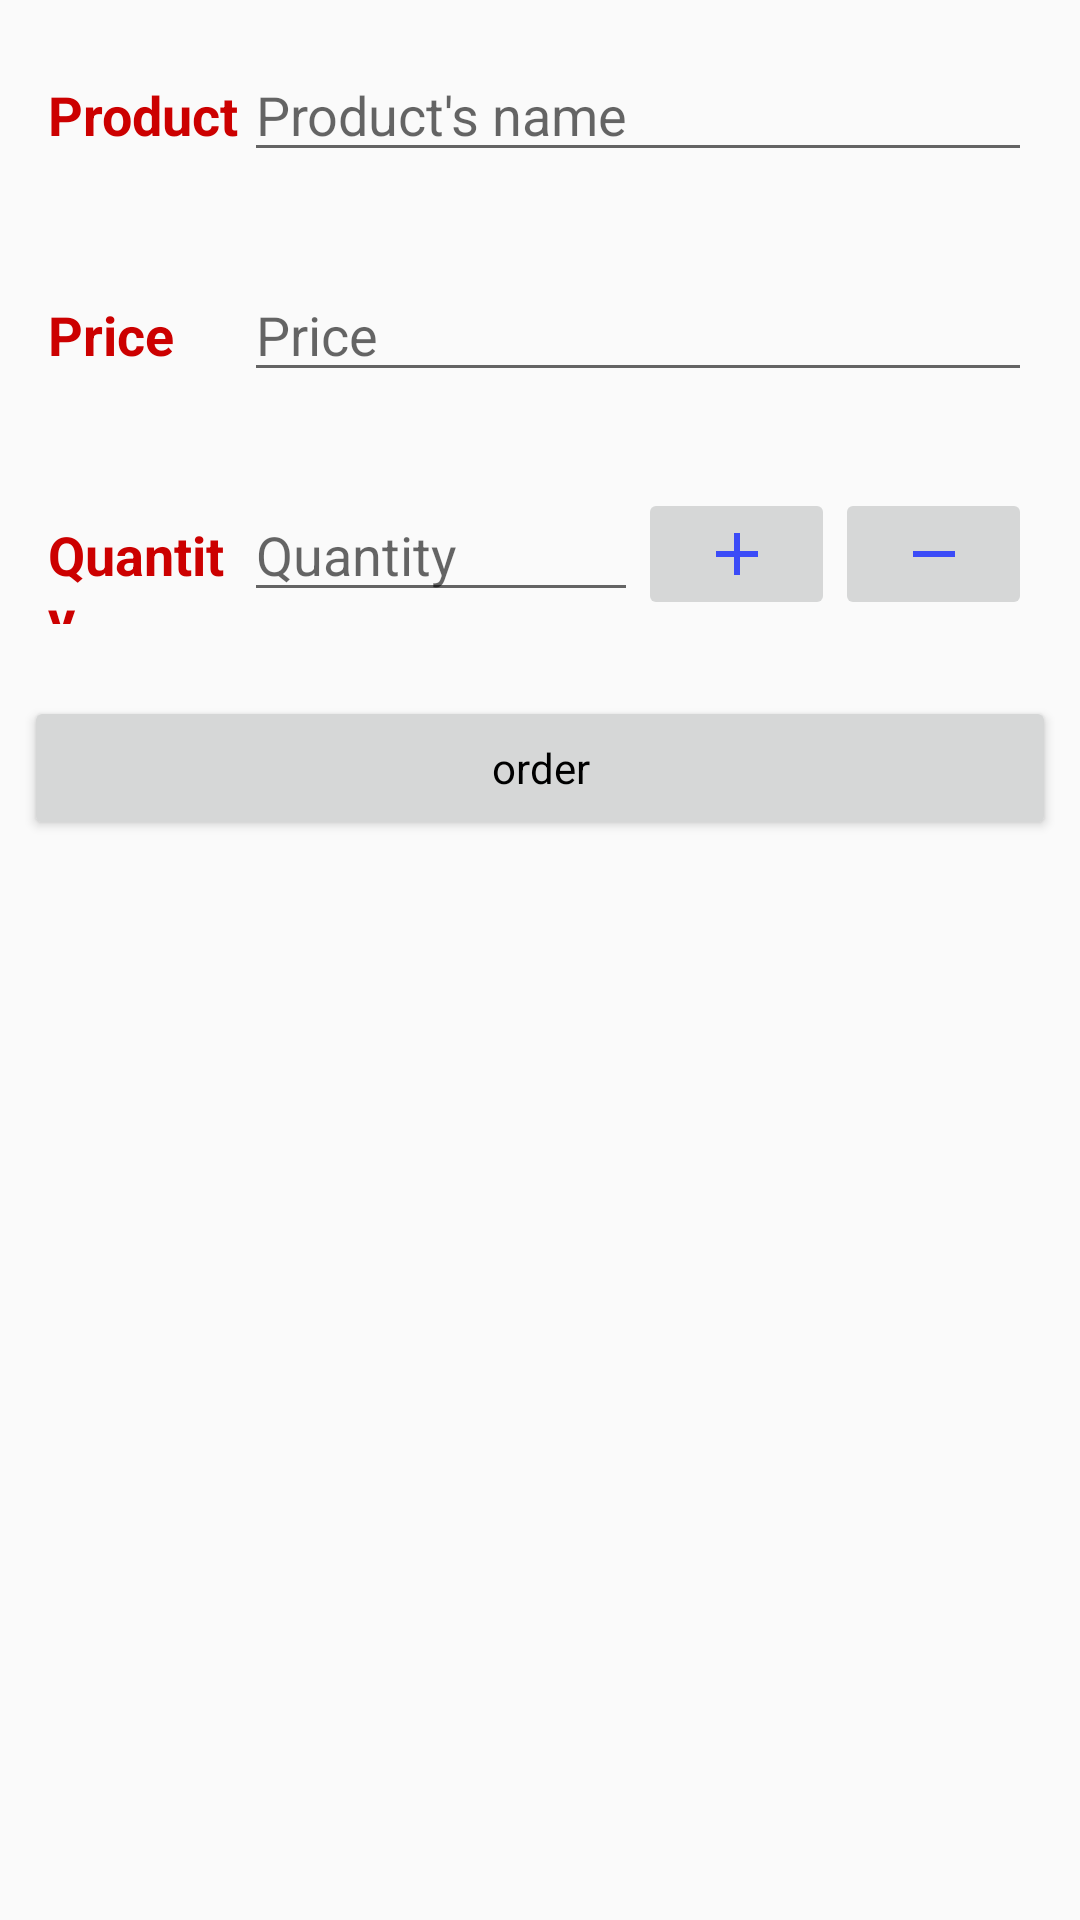

Named icons in this screenshot (1080x1920) and their centers, point (x, y):
edit add: point (736, 554)
edit less: point (933, 554)
